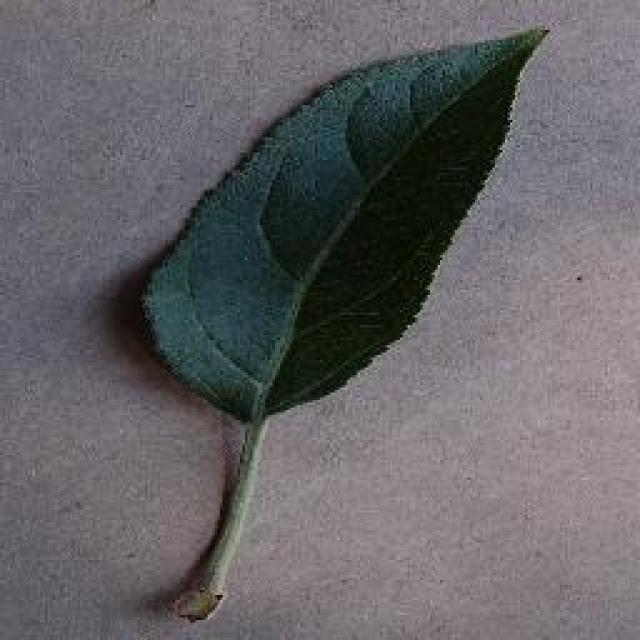apple healthy: (132, 20, 550, 622)
